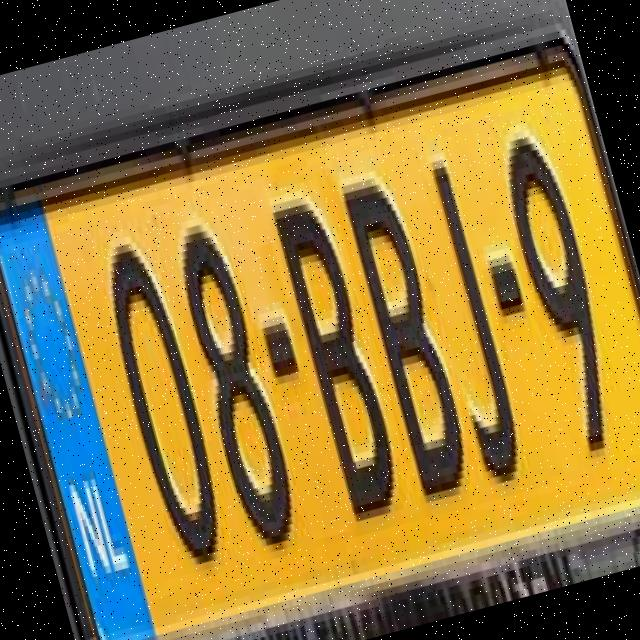EU: (0, 40, 640, 640)
Pays-Bas: (0, 211, 157, 640)
